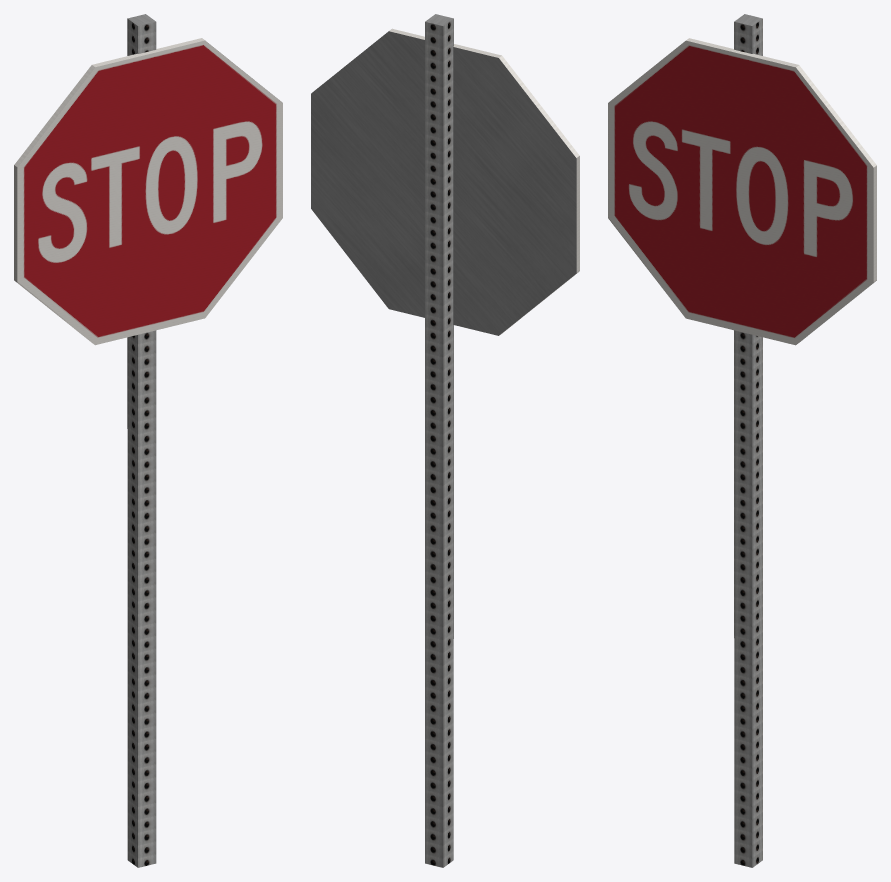
The model's file is StopSign001.fbx.
3 renders of one model, left to right at view 1: azimuth 30°, elevation 25°; view 2: azimuth 150°, elevation 25°; view 3: azimuth 330°, elevation 25°, orthographic.
Parts seen in each view (by area): view 1: Sign; view 2: Sign; view 3: Sign.
Part boxes in pixels (left/top/right/bottom): Sign: left=14, top=14, right=282, bottom=867; Sign: left=311, top=14, right=579, bottom=867; Sign: left=608, top=14, right=876, bottom=867.
Bounding box in the file's own units: 238 × 720 × 20.63.
Materials: 1 (1 with a texture image).
